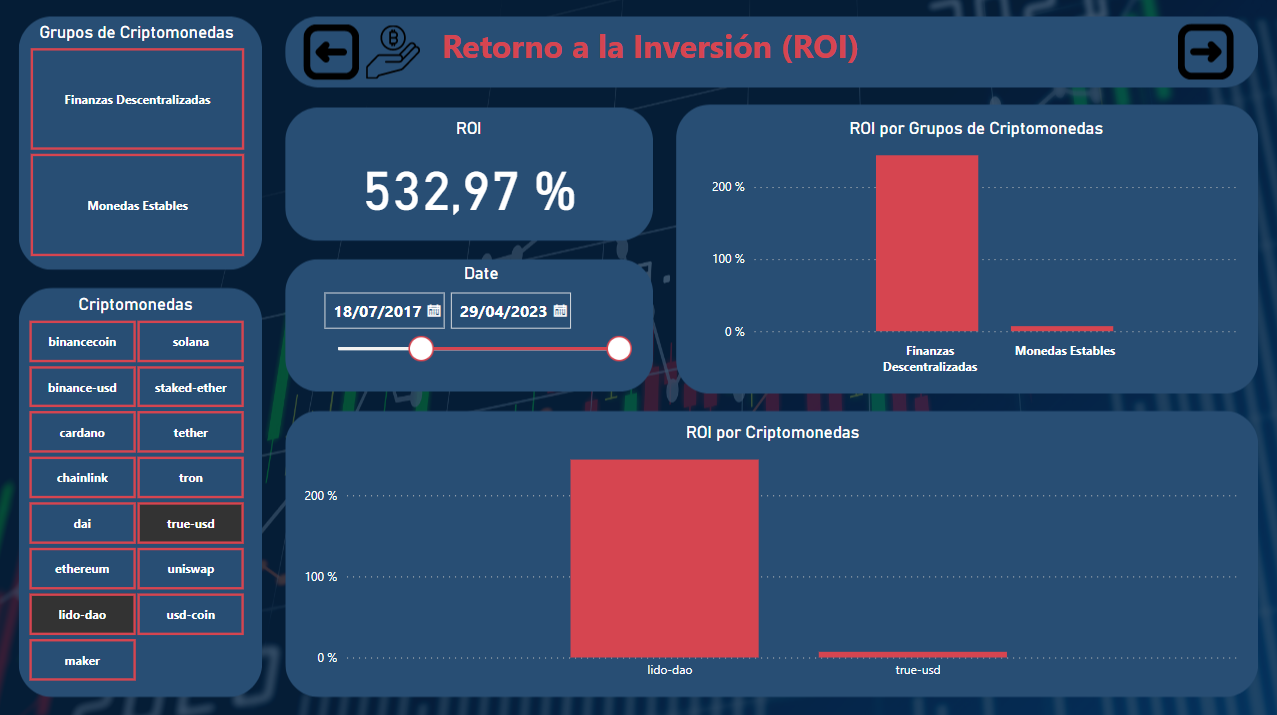

This screenshot's page, from the dashboard's own definition file:
{"tool":"powerbi","page":{"name":"Retorno a la Inversión","canvas":[1280,720],"ordinal":1},"visuals":[{"type":"slicer","title":"Criptomonedas","fields":{"Values":["combinado_completo.id"]},"box":[5,295.6,265,393.1],"z":0},{"type":"slicer","title":"Grupos de Criptomonedas","fields":{"Values":["combinado_completo.Grupos de Criptomonedas"]},"box":[5.6,23.1,264.4,241.2],"z":1000},{"type":"textbox","box":[438.3,21.7,457.4,75.2],"z":2000},{"type":"clusteredColumnChart","title":"ROI por Grupos de Criptomonedas","fields":{"Y":["combinado_completo.ROI"],"Category":["combinado_completo.Grupos de Criptomonedas"]},"box":[708.9,120,538.9,264.4],"z":3000},{"type":"clusteredColumnChart","title":"ROI por Criptomonedas","fields":{"Y":["combinado_completo.ROI"],"Category":["combinado_completo.id"]},"box":[301.1,423.3,946.7,265.6],"z":4000},{"type":"card","title":"ROI","fields":{"Values":["combinado_completo.ROI"]},"box":[300.7,119.8,338.9,112.1],"z":5000},{"type":"slicer","title":"Date","fields":{"Values":["combinado_completo.date"]},"box":[313.8,265,338.8,126.2],"z":6000},{"type":"actionButton","box":[301.2,21.9,67.5,65],"z":7000},{"type":"actionButton","box":[1175.7,24.3,61.4,58.6],"z":8000}]}

Visuals, with their boxes in screenshot pixels (x1, y1, x2, y2), scaled from the page's 1280x720 canvas onto the 1277x715 screenshot:
"Criptomonedas" slicer: l=5, t=294, r=269, b=684
"Grupos de Criptomonedas" slicer: l=6, t=23, r=269, b=262
textbox: l=437, t=22, r=894, b=96
"ROI por Grupos de Criptomonedas" clusteredColumnChart: l=707, t=119, r=1245, b=382
"ROI por Criptomonedas" clusteredColumnChart: l=300, t=420, r=1245, b=684
"ROI" card: l=300, t=119, r=638, b=230
"Date" slicer: l=313, t=263, r=651, b=388
actionButton: l=300, t=22, r=368, b=86
actionButton: l=1173, t=24, r=1234, b=82
